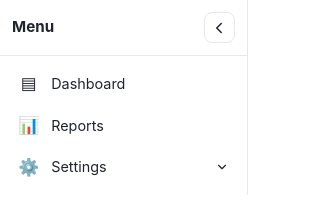
Test case: Sidebar › flips collapsed state when the collapse control is clicked
What coordinates should you click on to do the following:
click the button named "collapse sidebar"
I would click on:
 (219, 28)
Its box is 204,12 -> 235,43.
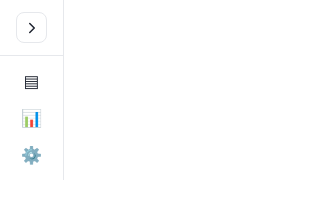
Result: the button named "expand sidebar" is shown at 16,12 -> 47,43
